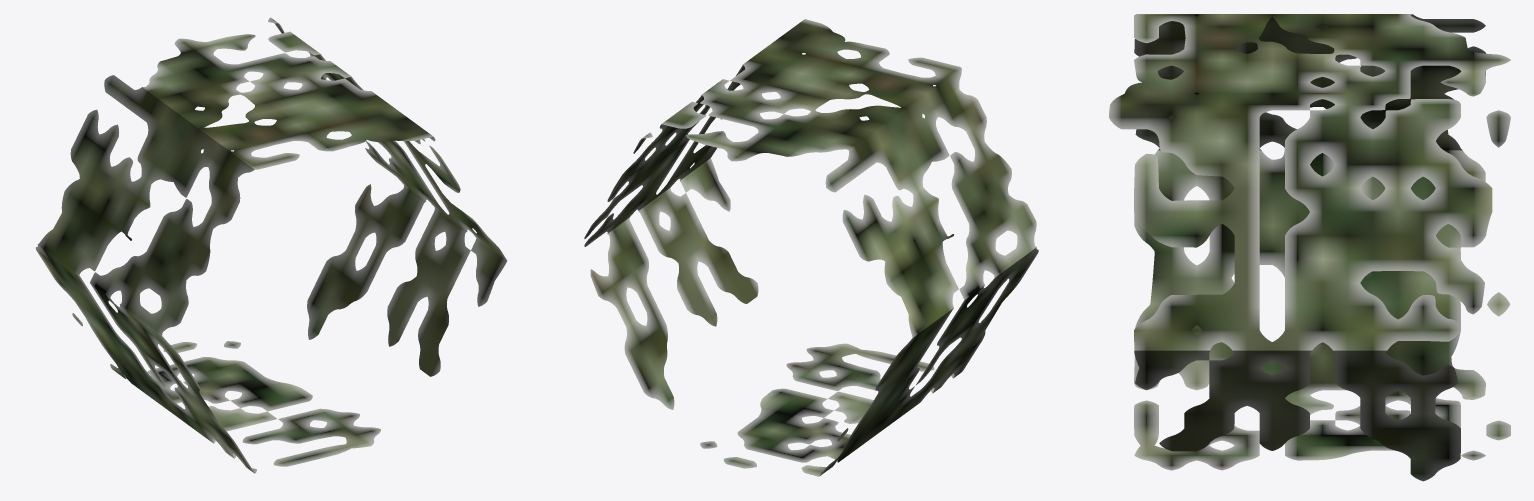
File: MESH_PIPE_Foliage1.fbx
3 views of the same model, side by side, from view 1: azimuth 30°, elevation 25°; view 2: azimuth 150°, elevation 25°; view 3: azimuth 270°, elevation 25° (orthographic). The views are drawn at different scales.
Parts seen in each view (by area): view 1: MESH_PIPE_Foliage1; view 2: MESH_PIPE_Foliage1; view 3: MESH_PIPE_Foliage1.
Boxes of the visible parts, x1,y1,x2,y2 form: MESH_PIPE_Foliage1: (35, 17, 507, 473); MESH_PIPE_Foliage1: (584, 19, 1038, 476); MESH_PIPE_Foliage1: (1109, 14, 1510, 481).
Size of the model in its own units: 0.5953 by 0.5156 by 0.5361.
